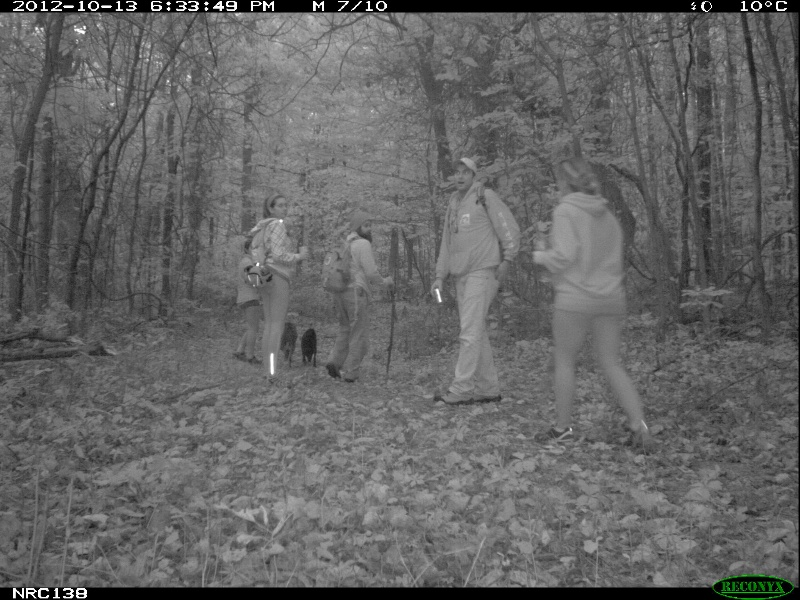dog: (277, 321, 298, 365), (299, 327, 318, 367)
human: (534, 154, 654, 455), (429, 156, 521, 405), (328, 207, 394, 384), (259, 190, 304, 387), (237, 235, 261, 366)
human face: (553, 162, 584, 197), (449, 162, 477, 194), (352, 214, 375, 238), (271, 195, 290, 221), (242, 238, 254, 255)
human legs: (546, 283, 657, 453), (440, 270, 512, 405), (325, 289, 374, 385), (255, 268, 288, 391), (236, 297, 262, 366)
